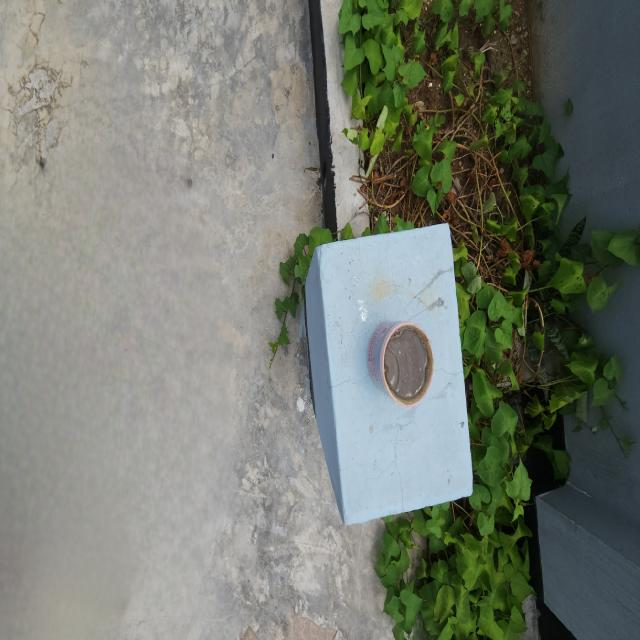Breeding Place: (318, 0, 580, 640), (371, 309, 438, 413)
